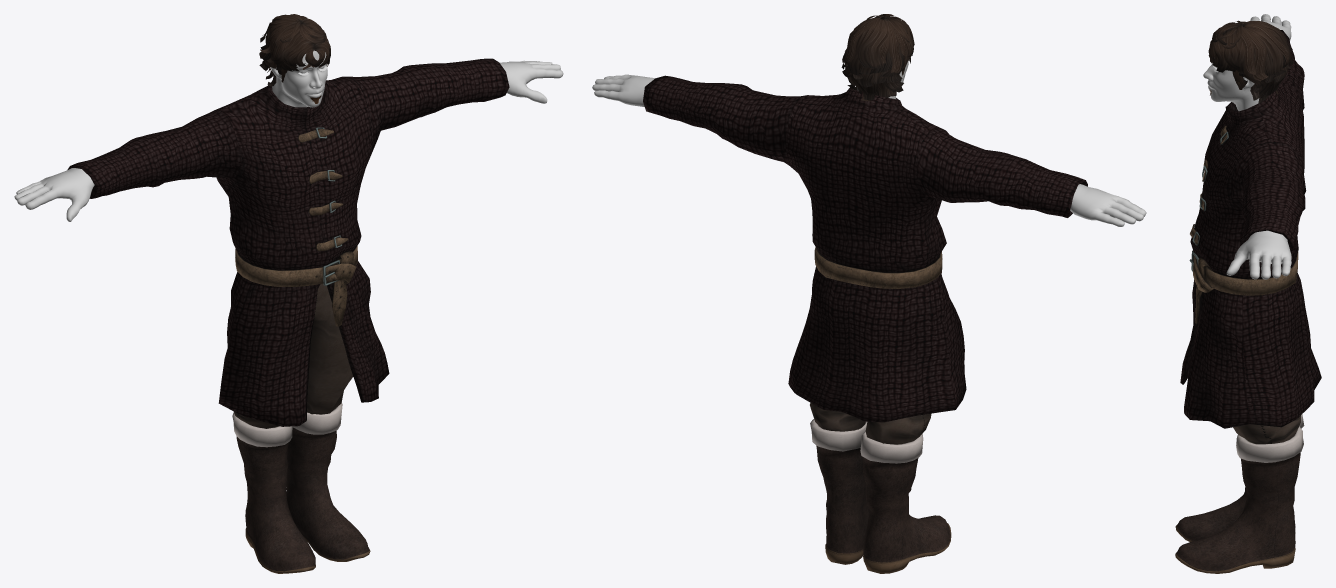
Rendered from MaleNpc3.obj.
The picture shows the model from 3 angles, left to right: view 1: azimuth 30°, elevation 25°; view 2: azimuth 150°, elevation 25°; view 3: azimuth 270°, elevation 25°; orthographic projection.
Visible parts, largest first — view 1: Tops, Shoes, Body, Bottoms, Hair; view 2: Tops, Shoes, Hair, Body, Bottoms; view 3: Tops, Shoes, Hair, Body, Bottoms.
Part boxes in pixels (<box>): Tops: <box>67,58,509,426</box>; Shoes: <box>232,402,370,573</box>; Body: <box>14,50,563,221</box>; Bottoms: <box>233,283,353,428</box>; Hair: <box>259,14,330,86</box>; Tops: <box>643,75,1087,422</box>; Shoes: <box>810,419,951,573</box>; Hair: <box>841,14,914,101</box>; Body: <box>592,61,1146,226</box>; Bottoms: <box>810,403,931,444</box>; Tops: <box>1180,30,1321,428</box>; Shoes: <box>1175,414,1304,573</box>; Hair: <box>1208,20,1293,104</box>; Body: <box>1203,14,1291,279</box>; Bottoms: <box>1211,269,1300,444</box>.
Bounding box in the file's own units: 2.3 × 2.15 × 0.5393.
